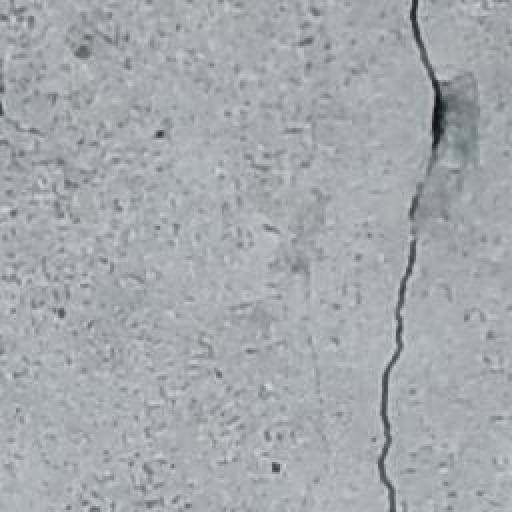spalling: (366, 7, 473, 509)
